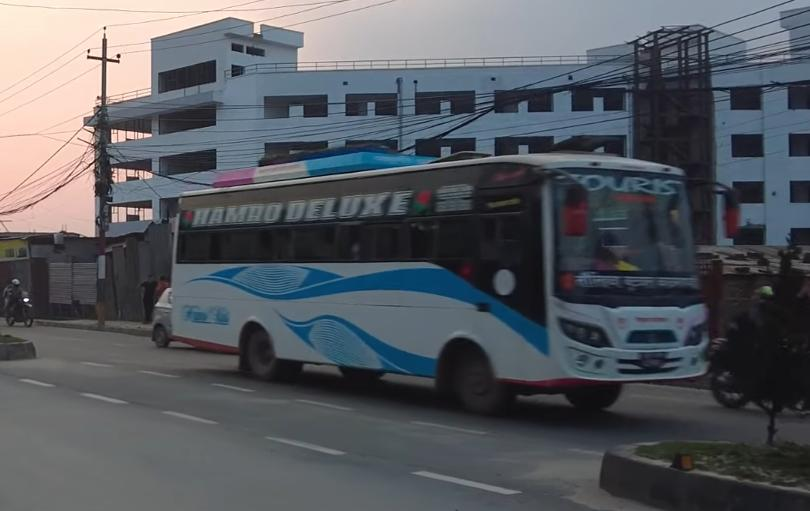bus: (148, 138, 724, 416)
